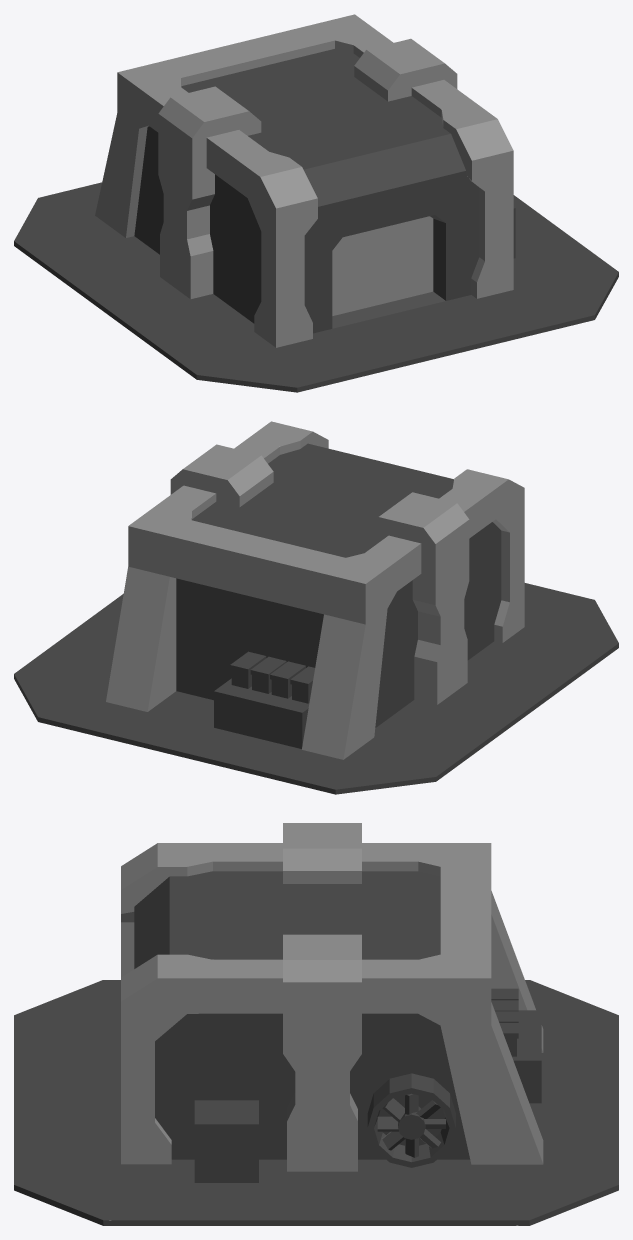
The model's file is Garage.glb.
The picture shows the model from 3 angles, top to bottom: view 1: azimuth 30°, elevation 25°; view 2: azimuth 150°, elevation 25°; view 3: azimuth 270°, elevation 25°; orthographic projection. The views are drawn at different scales.
Parts seen in each view (by area): view 1: StructureFloor.003; view 2: StructureFloor.003; view 3: StructureFloor.003.
Part boxes in pixels (<box>): StructureFloor.003: <box>14,14,618,392</box>; StructureFloor.003: <box>14,421,618,794</box>; StructureFloor.003: <box>14,823,618,1225</box>.
Size of the model in its own units: 3.83 by 1.56 by 4.07.
1 material, 1 textured.
